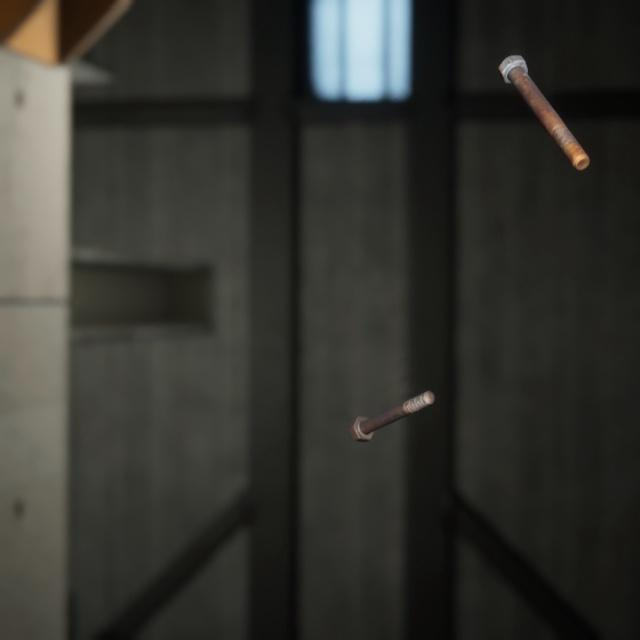bolt: (493, 39, 594, 162), (344, 366, 439, 428)
